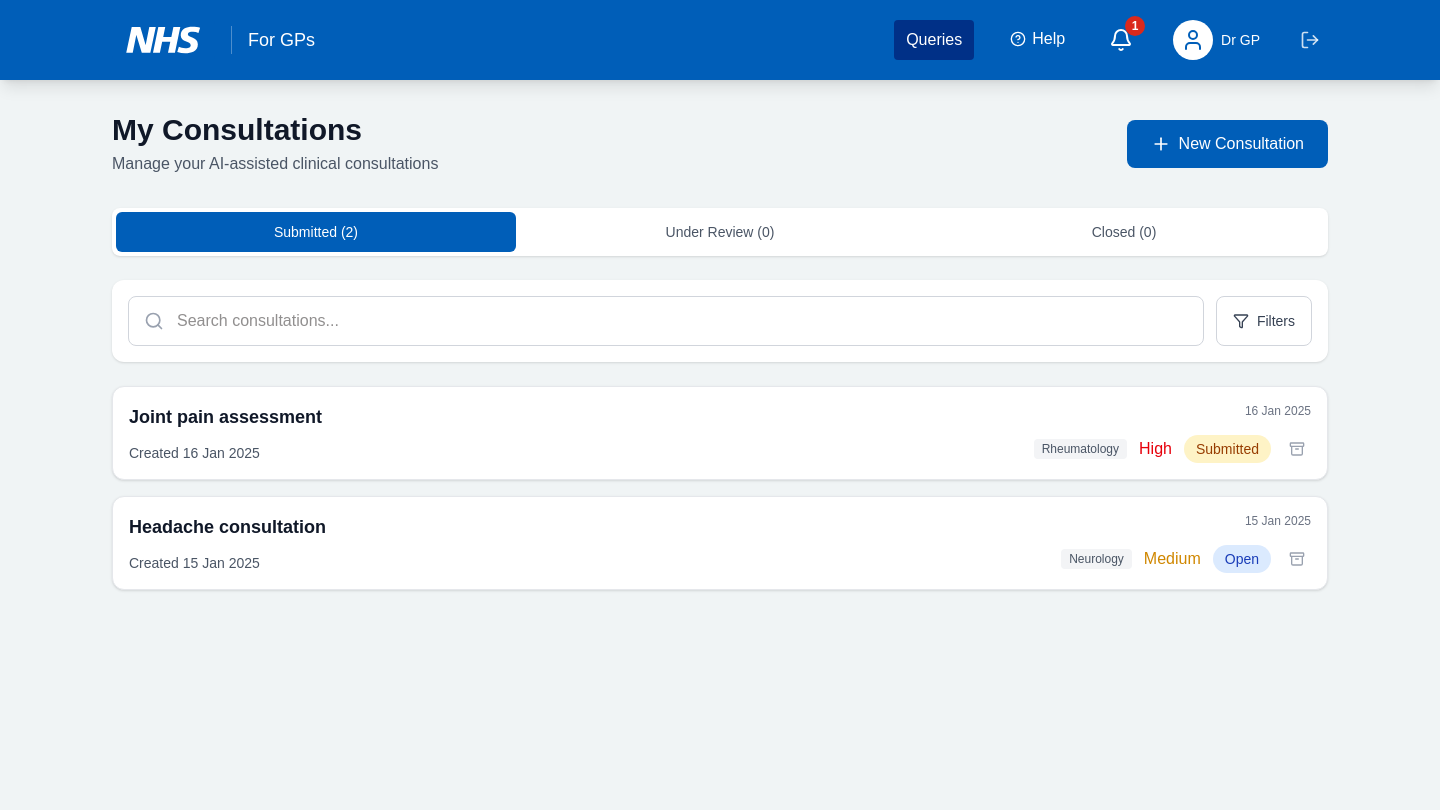
Scenario: GPQueriesPage › filters by specialty via server
The image size is (1440, 810).
Expected: the heading "Headache consultation" is shown, x1=129 y1=517 x2=326 y2=537
Note: Open filters
Click the button with aria-label "Toggle filters" at point(1264, 321), box x1=1216 y1=296 x2=1312 y2=346
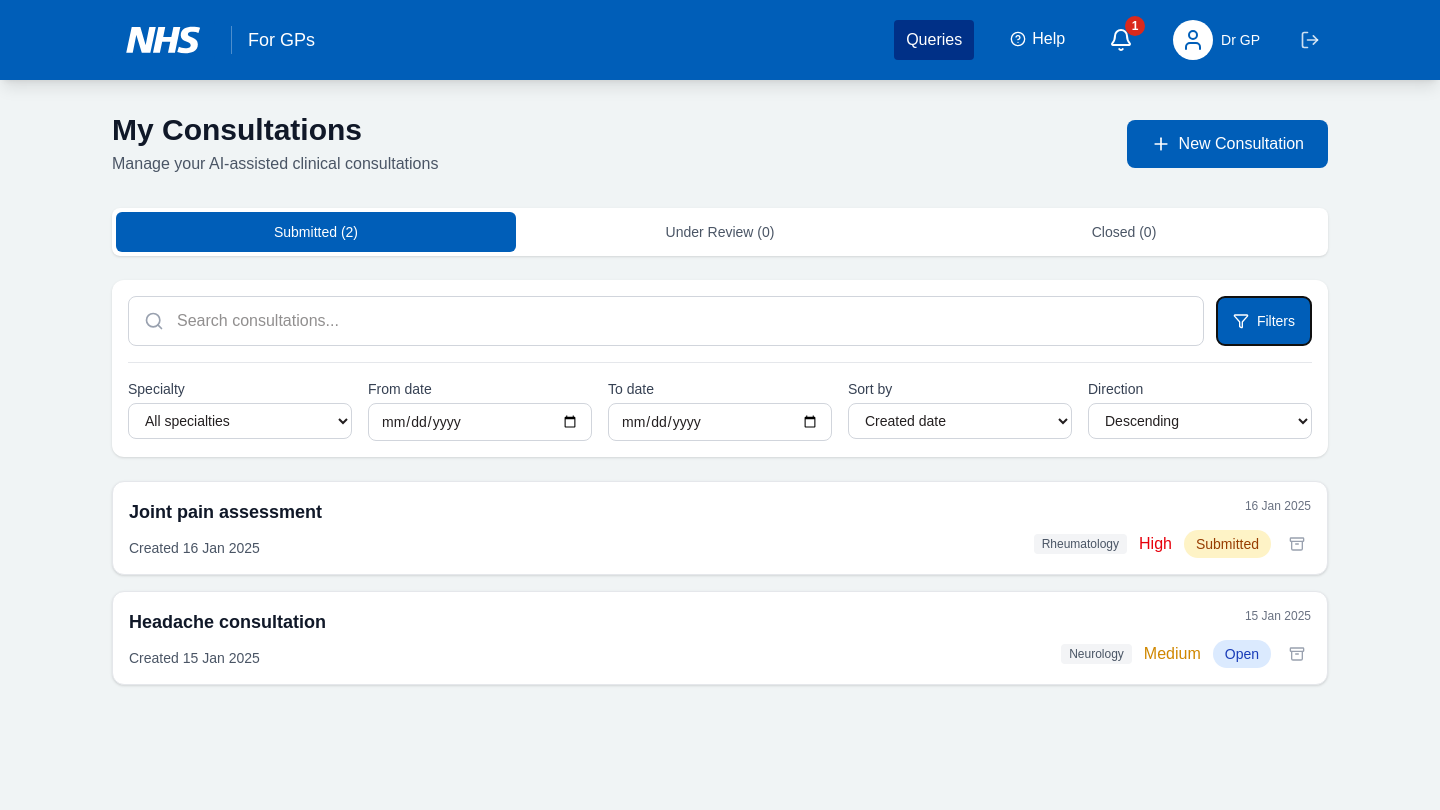
Note: Select neurology specialty
Select "Neurology" in the dropdown labelled "Specialty" at point(240, 421), box x1=128 y1=403 x2=352 y2=439
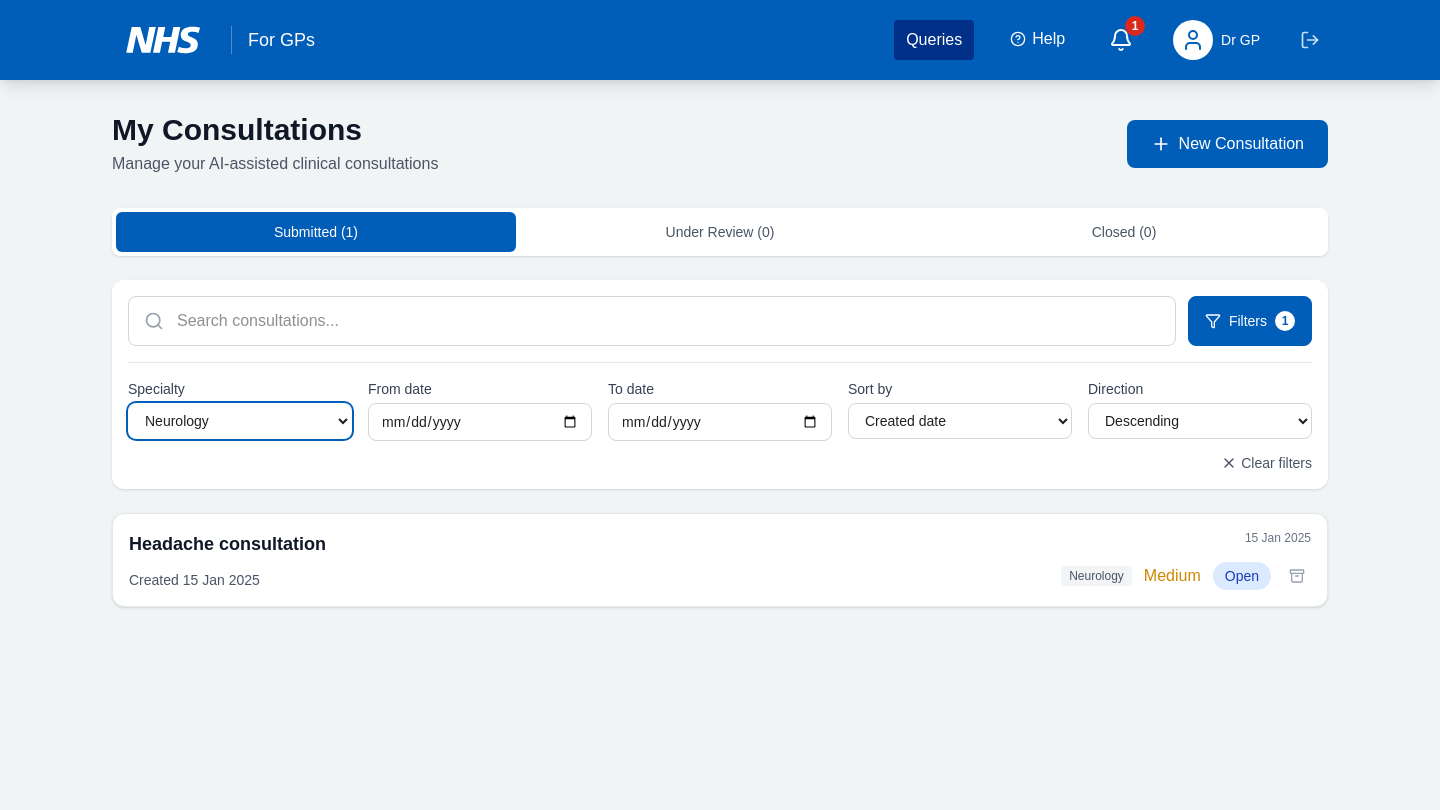
Expected: the heading "Headache consultation" is shown, x1=129 y1=534 x2=326 y2=554
Expected: the heading "Joint pain assessment" is gone
